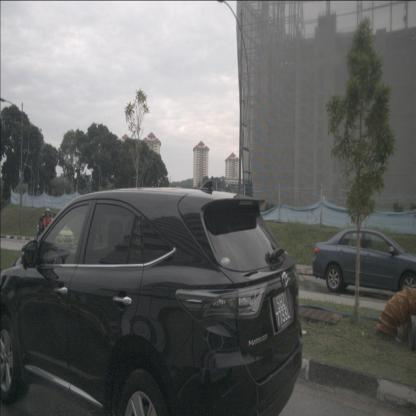vehicle-car: (0, 186, 304, 415), (312, 227, 416, 301), (37, 216, 75, 248)
vehicle-motorcycle: (39, 207, 57, 260)
